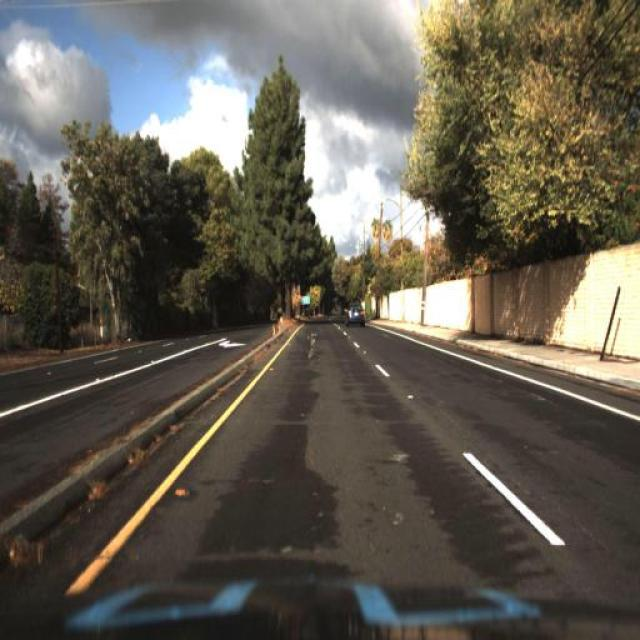car: (346, 302, 366, 329)
